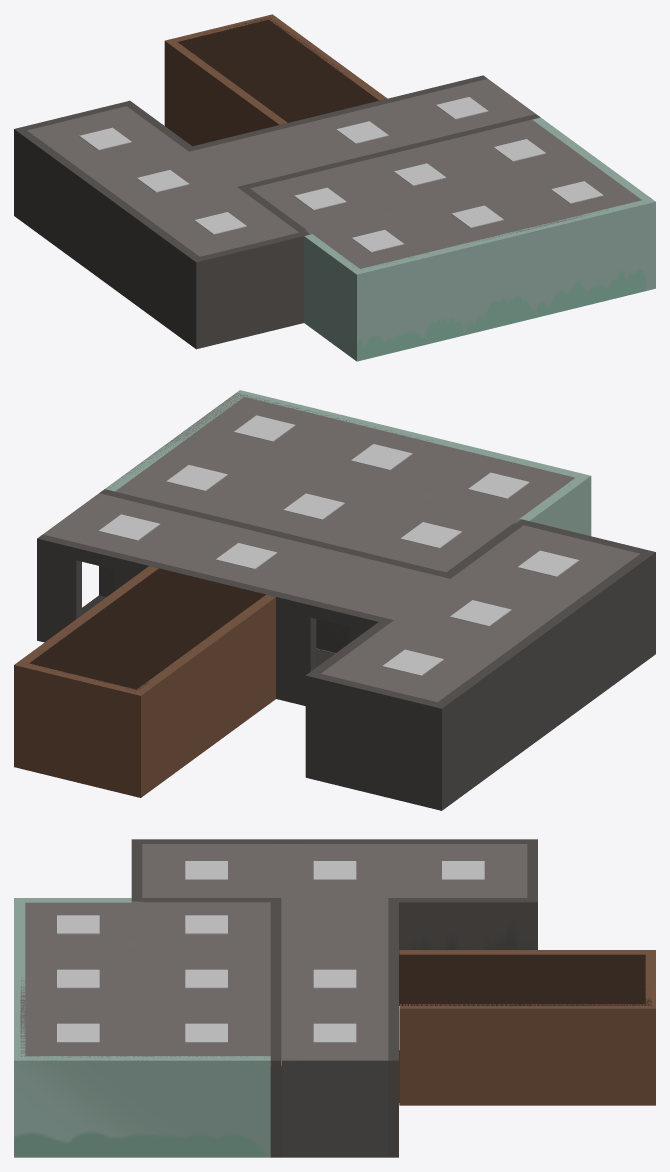
Rendered from map5.glb.
3 renders of one model, top to bottom at view 1: azimuth 30°, elevation 25°; view 2: azimuth 150°, elevation 25°; view 3: azimuth 270°, elevation 25°, orthographic. The views are drawn at different scales.
Parts seen in each view (by area): view 1: Plane, Cube.009, Cube, Cube.001, Cube.007, Cube.041, Cube.042, Cube.003, Cube.006, Cube.039, Cube.040, Cube.008 (+3 smaller); view 2: Plane, Cube, Cube.001, Cube.009, Cube.003, Cube.004, Cube.006, Cube.007, Cube.008, Cube.040, Cube.044, Cube.039 (+3 smaller); view 3: Plane, Cube.009, Cube.001, Cube, Cube.004, Cube.003, Cube.039, Cube.040, Cube.041, Cube.042, Cube.043, Cube.044 (+3 smaller).
Part boxes in pixels (x1,y1,x2,y2): Plane: (27,17,650,269); Cube.009: (304,117,655,361); Cube: (14,75,540,349); Cube.001: (164,14,387,146); Cube.007: (79,127,131,150); Cube.041: (294,187,346,210); Cube.042: (351,230,403,252); Cube.003: (336,121,388,143); Cube.006: (137,170,189,192); Cube.039: (394,163,446,185); Cube.040: (451,205,503,227); Cube.008: (194,212,246,234); Plane: (29,392,639,701); Cube: (37,489,655,810); Cube.001: (14,566,275,797); Cube.009: (105,390,591,535); Cube.003: (215,543,277,569); Cube.004: (98,514,160,540); Cube.006: (450,600,511,626); Cube.007: (382,649,443,676); Cube.008: (517,550,579,577); Cube.040: (351,444,412,470); Cube.044: (166,465,227,491); Cube.039: (283,493,344,519); Plane: (20,844,651,1157); Cube.009: (14,898,270,1157); Cube.001: (399,950,655,1105); Cube: (131,839,537,1157); Cube.004: (313,1023,356,1042); Cube.003: (313,969,356,988); Cube.039: (185,969,227,988); Cube.040: (57,969,99,988); Cube.041: (185,915,227,934); Cube.042: (57,915,99,934); Cube.043: (57,1023,99,1042); Cube.044: (185,1023,227,1042).
Bounding box in the file's own units: 24.49 × 5.07 × 30.01.
Materials: 43 (40 with a texture image).
